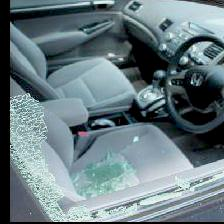glass_shatter: (12, 1, 223, 218)
